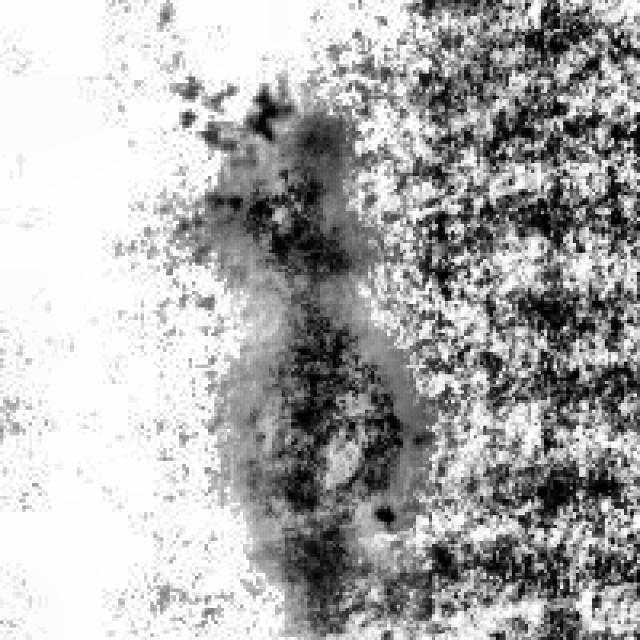Scratches: (221, 278, 406, 592), (192, 100, 358, 294)
